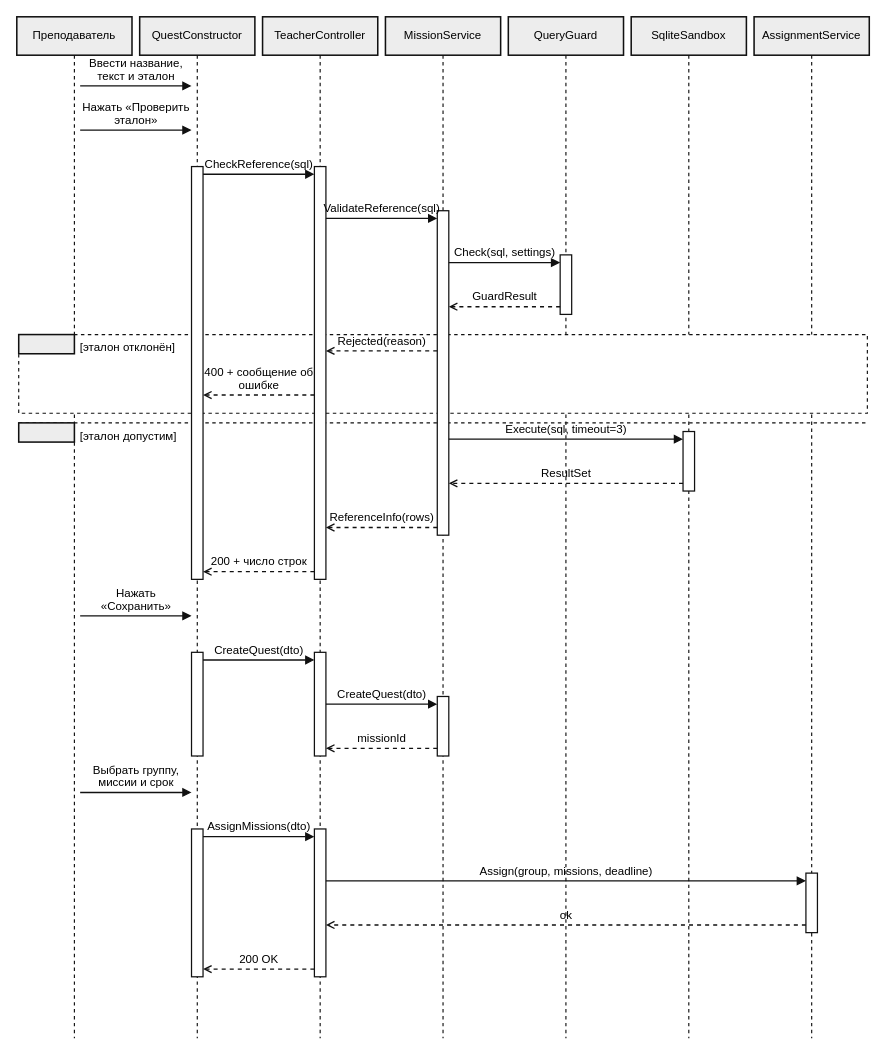
The diagram is 887 pixels wide and 1057 high, and some of its shapes have lost their labels. The centre of each missing label's shape, as x and y in pixels:
alt: pixel 46 343
else: pixel 46 432
